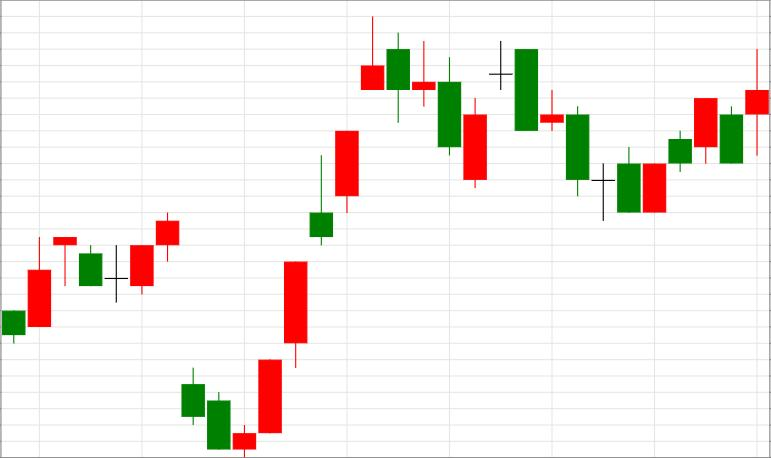shooting_star_fall: (233, 17, 384, 457), (233, 154, 333, 457)
